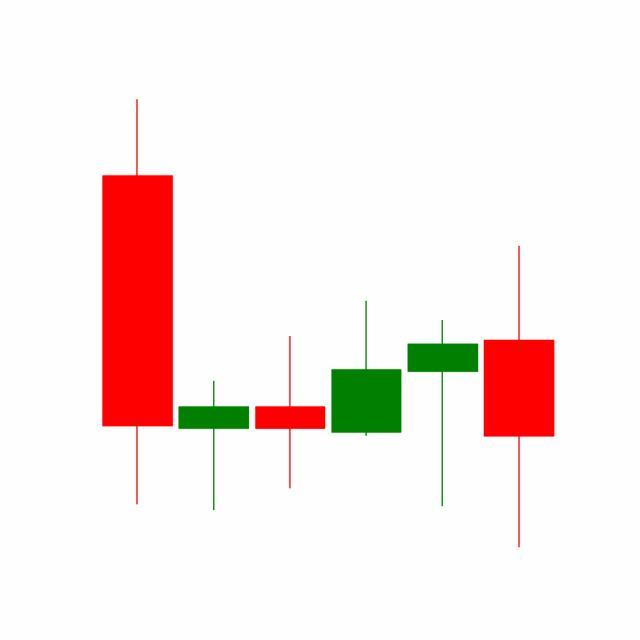Three Outside Up-Down: (252, 299, 482, 509)
